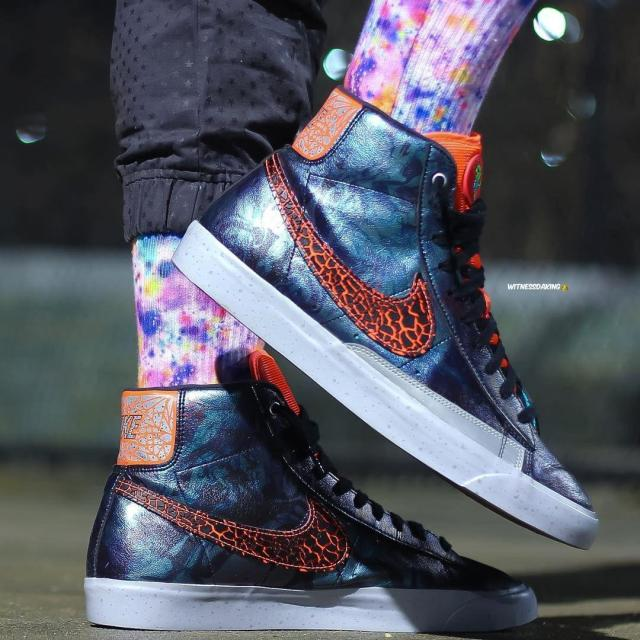shoe: (168, 59, 617, 563), (60, 326, 555, 640)
